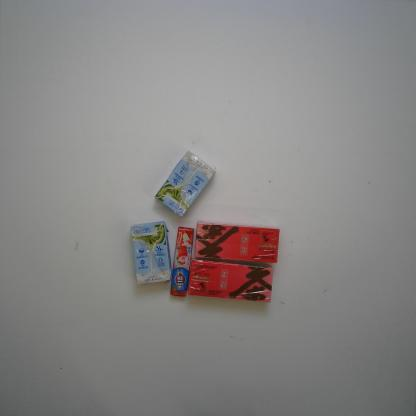Candy: (169, 226, 195, 298)
Instant Drink: (187, 258, 274, 304), (194, 222, 280, 263)
Milk: (154, 151, 216, 218), (130, 220, 172, 284)
